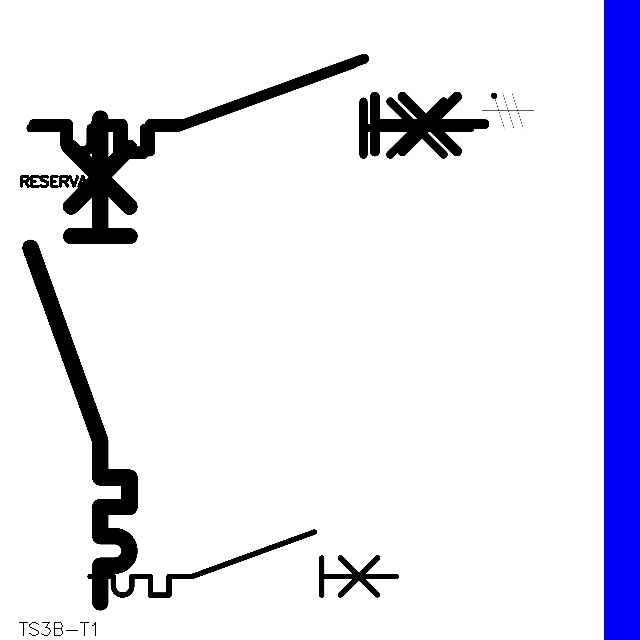interruptor_termomagnetico: (18, 106, 142, 615), (22, 47, 496, 163), (19, 53, 481, 166), (82, 524, 404, 603)
